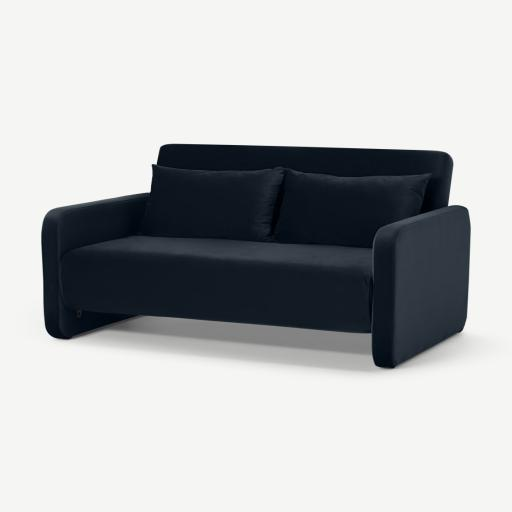back_cushion: (139, 145, 452, 248)
left_arm: (373, 206, 470, 367)
right_arm: (42, 194, 148, 338)
seat_cushion: (58, 235, 373, 331)
two-seater: (0, 0, 511, 512)
